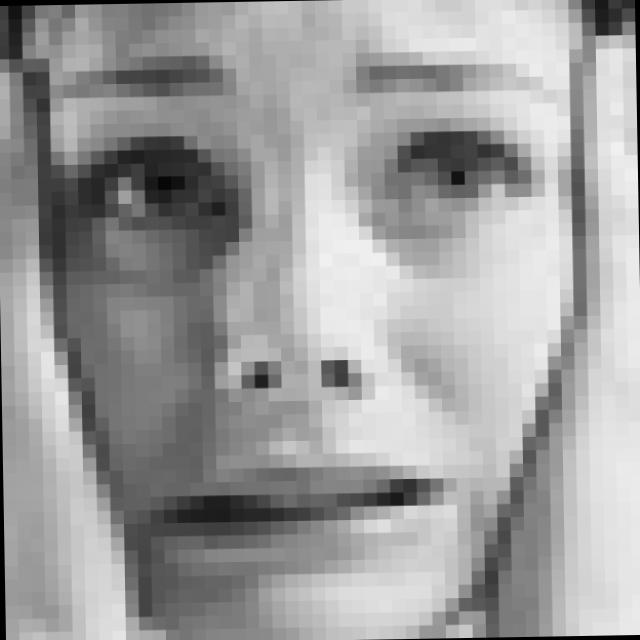fear: (38, 47, 580, 598)
